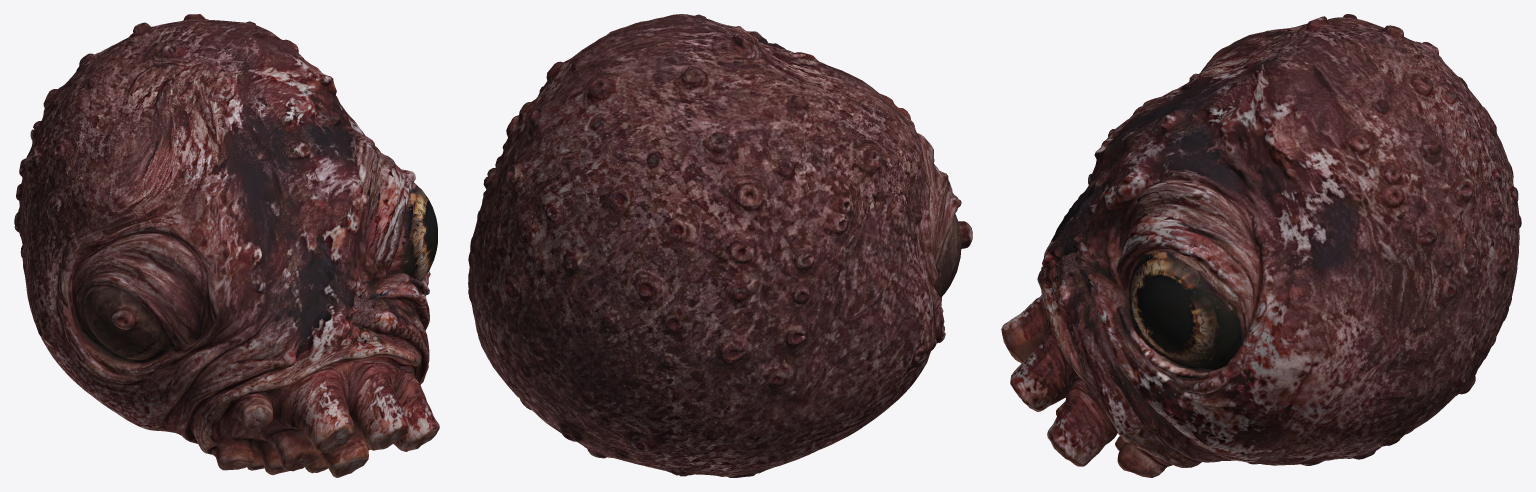
The model's file is head.glb.
3 views of the same model, side by side, from view 1: azimuth 30°, elevation 25°; view 2: azimuth 150°, elevation 25°; view 3: azimuth 270°, elevation 25° (orthographic). The views are drawn at different scales.
Parts seen in each view (by area): view 1: tripo_node_dc468c4f-7151-45da-a654-26654ec1e163; view 2: tripo_node_dc468c4f-7151-45da-a654-26654ec1e163; view 3: tripo_node_dc468c4f-7151-45da-a654-26654ec1e163.
Boxes of the visible parts, box(x1,y1,x2,y2) form: tripo_node_dc468c4f-7151-45da-a654-26654ec1e163: box(14, 14, 439, 477); tripo_node_dc468c4f-7151-45da-a654-26654ec1e163: box(468, 14, 972, 477); tripo_node_dc468c4f-7151-45da-a654-26654ec1e163: box(1001, 14, 1521, 477).
Bounding box in the file's own units: 0.8555 × 0.8512 × 0.98.
1 material, 1 textured.
